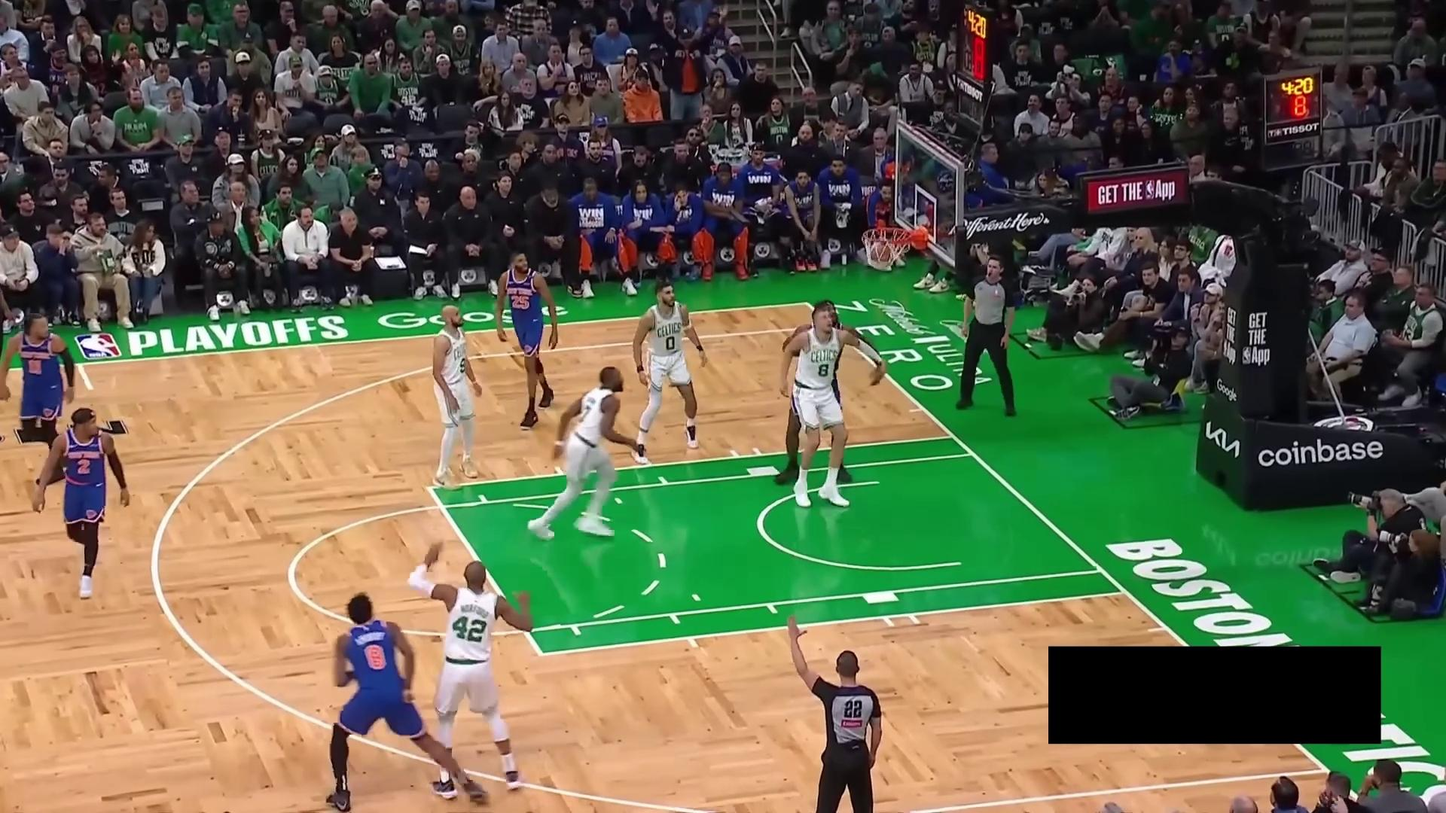ball: (868, 242, 894, 268)
ball-in-basket: (862, 224, 914, 271)
number: (453, 616, 487, 642), (364, 642, 386, 671), (510, 294, 530, 310), (76, 458, 92, 476), (816, 361, 831, 379), (28, 358, 43, 376), (580, 404, 592, 424), (664, 334, 676, 352), (458, 357, 468, 375)
player: (324, 592, 487, 813), (406, 537, 535, 800), (780, 304, 887, 510), (773, 298, 882, 487), (526, 364, 639, 542), (32, 406, 131, 599), (631, 279, 709, 465), (0, 310, 77, 486), (494, 249, 560, 430), (430, 303, 484, 492)
referee: (787, 614, 883, 813), (954, 250, 1018, 417), (0, 230, 13, 439)
rim: (861, 225, 913, 244)
